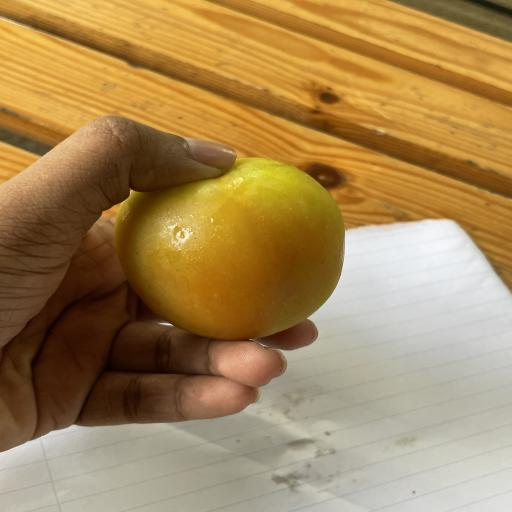unripe: (115, 158, 344, 340)
